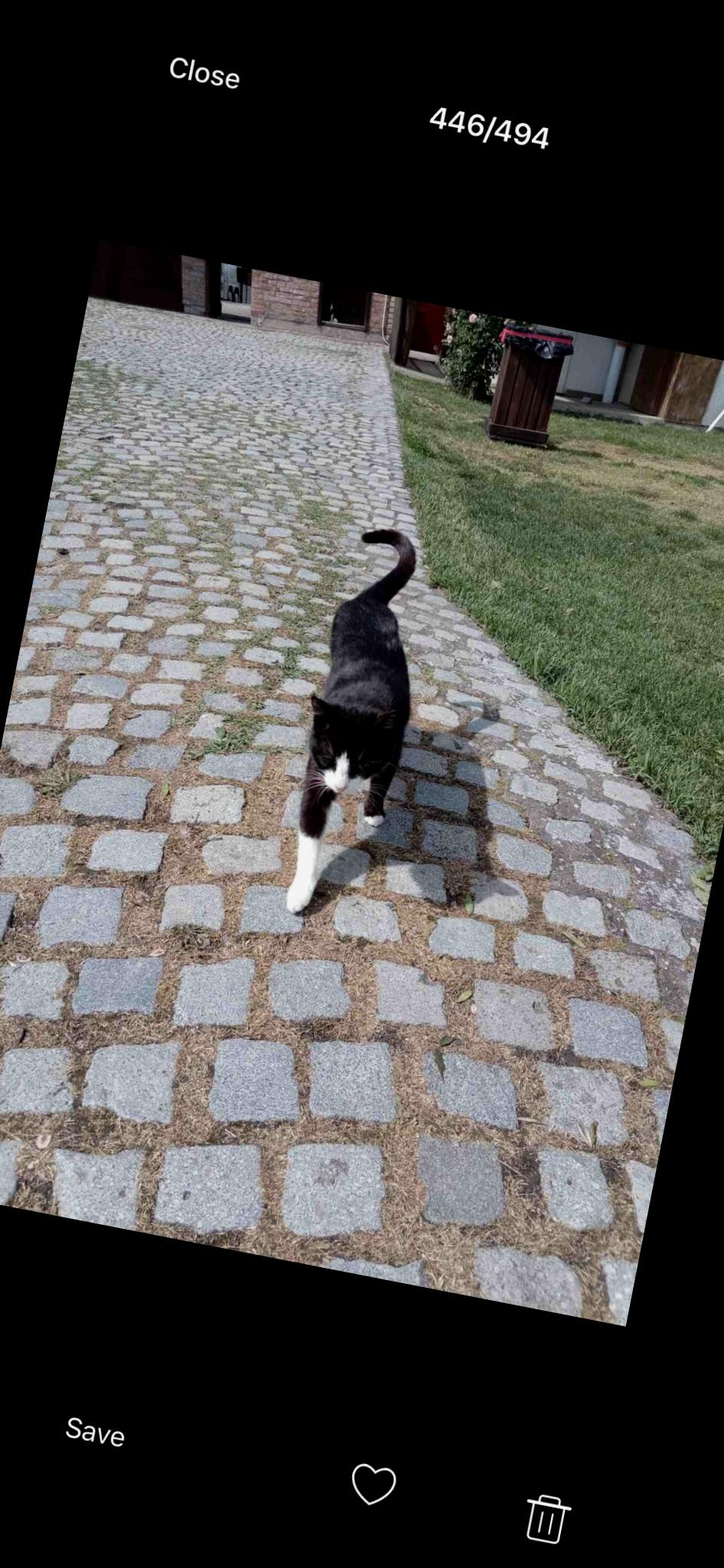macka: (266, 521, 444, 926)
